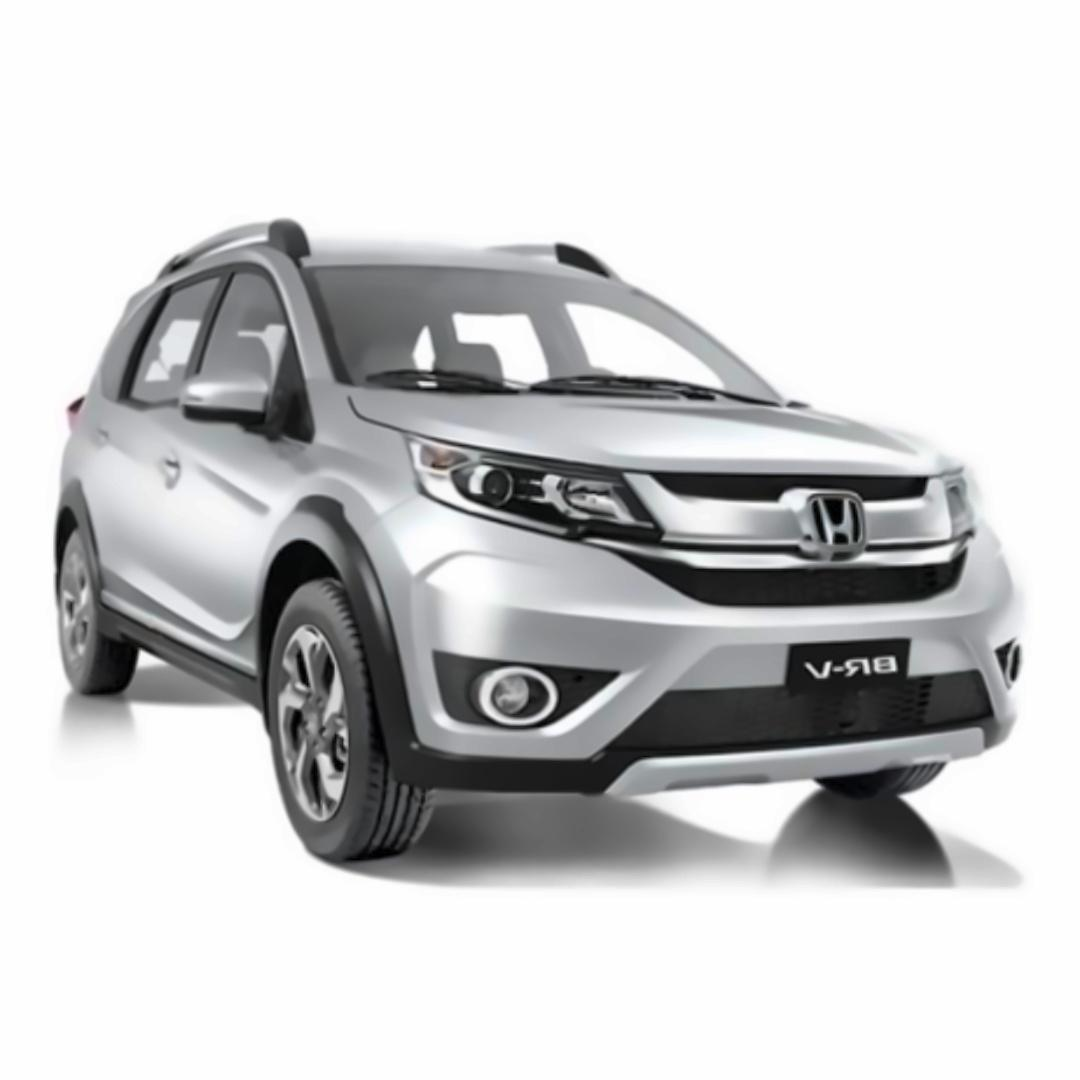Car hood: (348, 378, 968, 488)
Driver-s door - -F-R-: (156, 246, 279, 677)
Fender - -F-R-: (252, 366, 423, 672)
Fender - -R-R-: (58, 434, 104, 551)
Front bumper: (358, 526, 1037, 813)
Headlight - -L-: (914, 454, 985, 546)
Headlight - -R-: (396, 426, 670, 557)
Passenger-s door - -R-R-: (84, 246, 188, 640)
Rear light - -R-: (42, 384, 101, 433)
Side bumper - -R-: (84, 582, 277, 729)
Side mirror - -R-: (168, 358, 283, 435)
